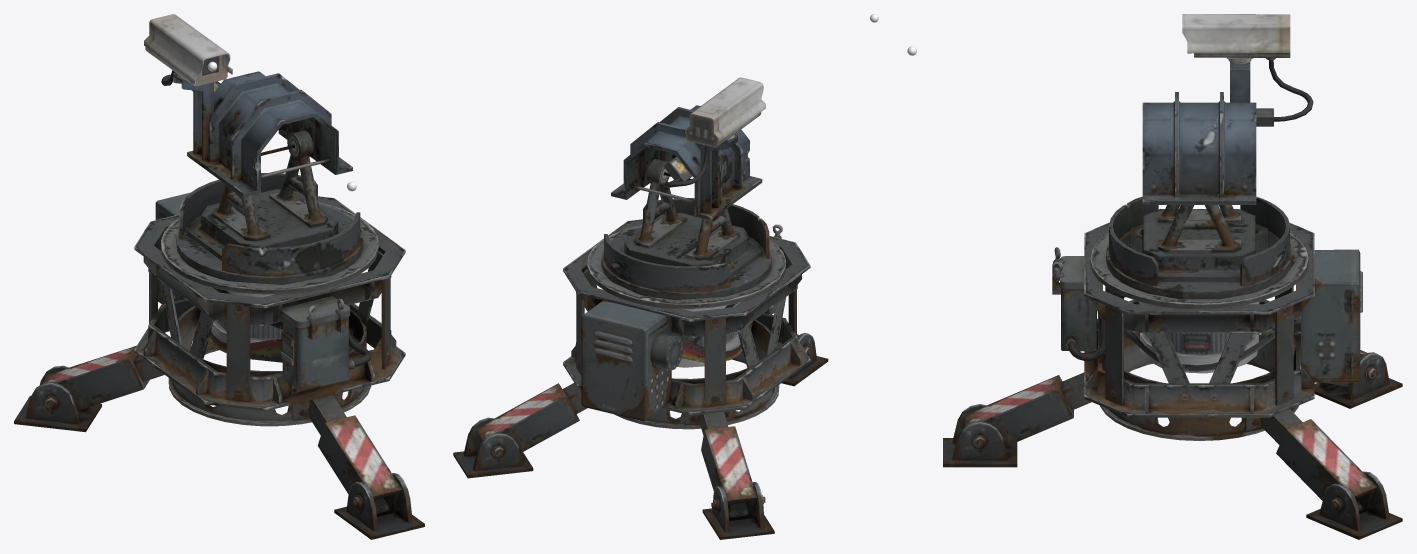
File: industrial_autoturret_deployed.glb
3 renders of one model, left to right at view 1: azimuth 30°, elevation 25°; view 2: azimuth 150°, elevation 25°; view 3: azimuth 270°, elevation 25°, orthographic. The views are drawn at different scales.
Parts seen in each view (by area): view 1: industrial_autoturret_base_LOD0, industrial_autoturret_yaw_LOD0, industrial_autoturret_pitch_LOD0, industrial_autoturret_shield_LOD0; view 2: industrial_autoturret_base_LOD0, industrial_autoturret_yaw_LOD0, industrial_autoturret_pitch_LOD0, industrial_autoturret_shield_LOD0; view 3: industrial_autoturret_base_LOD0, industrial_autoturret_yaw_LOD0, industrial_autoturret_pitch_LOD0, industrial_autoturret_shield_LOD0.
Boxes of the visible parts, x1,y1,x2,y2 form: industrial_autoturret_base_LOD0: [14, 192, 424, 539]; industrial_autoturret_yaw_LOD0: [176, 130, 363, 284]; industrial_autoturret_pitch_LOD0: [144, 14, 352, 197]; industrial_autoturret_shield_LOD0: [217, 82, 316, 170]; industrial_autoturret_base_LOD0: [453, 219, 828, 539]; industrial_autoturret_yaw_LOD0: [601, 159, 771, 300]; industrial_autoturret_pitch_LOD0: [611, 77, 765, 220]; industrial_autoturret_shield_LOD0: [644, 115, 734, 195]; industrial_autoturret_base_LOD0: [943, 222, 1402, 539]; industrial_autoturret_yaw_LOD0: [1106, 196, 1292, 299]; industrial_autoturret_pitch_LOD0: [1142, 14, 1313, 204]; industrial_autoturret_shield_LOD0: [1179, 101, 1219, 194].
Bounding box in the file's own units: 1.06 × 1.16 × 1.29.
Materials: 2 (1 with a texture image).
